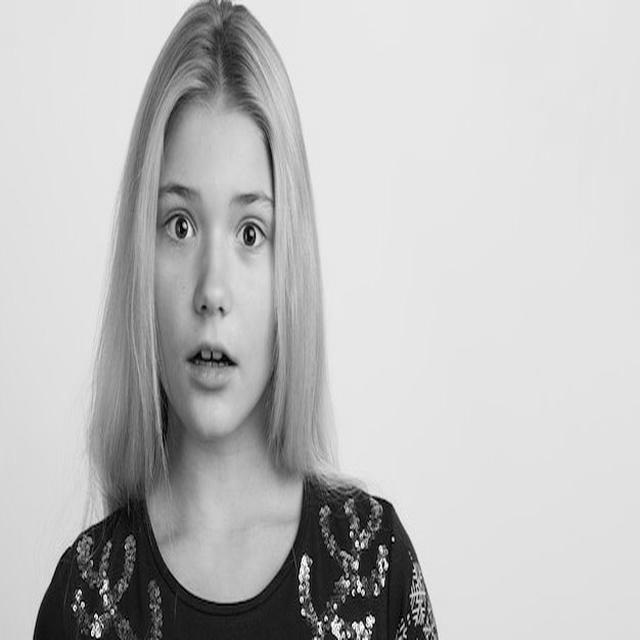Fear: (147, 109, 278, 438)
